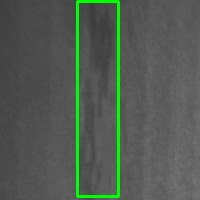inclusion: (77, 1, 118, 196)
